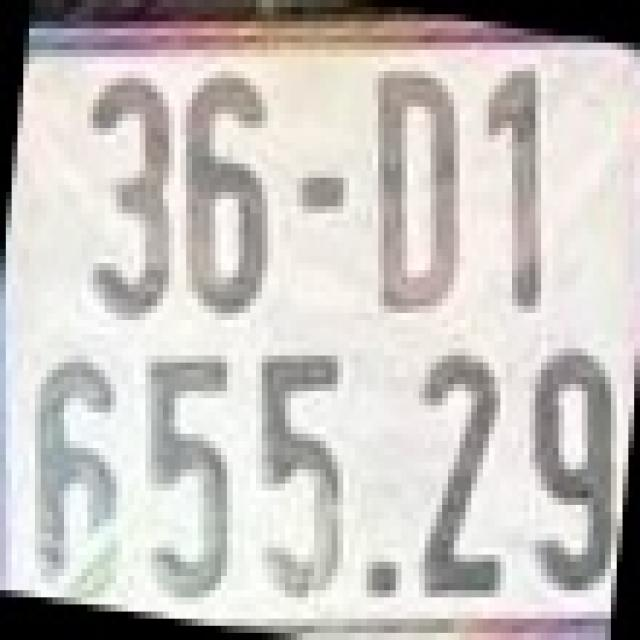1: (483, 64, 553, 313)
2: (413, 348, 506, 598)
3: (87, 71, 175, 313)
5: (256, 348, 349, 598), (140, 348, 232, 598)
6: (180, 71, 274, 313), (29, 355, 122, 569)
9: (529, 348, 617, 598)
D: (367, 64, 471, 313)
